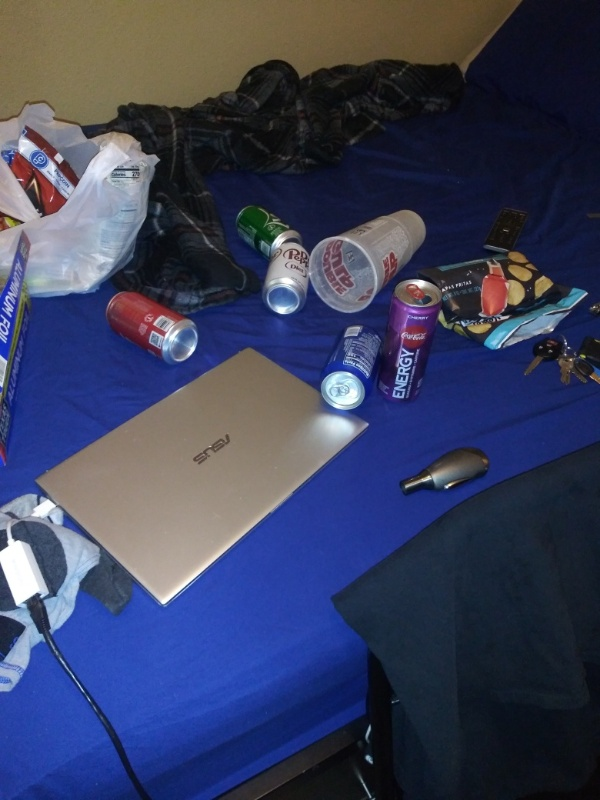can: (376, 277, 446, 408), (97, 290, 202, 370), (320, 323, 385, 413), (231, 202, 308, 261), (258, 241, 316, 318)
